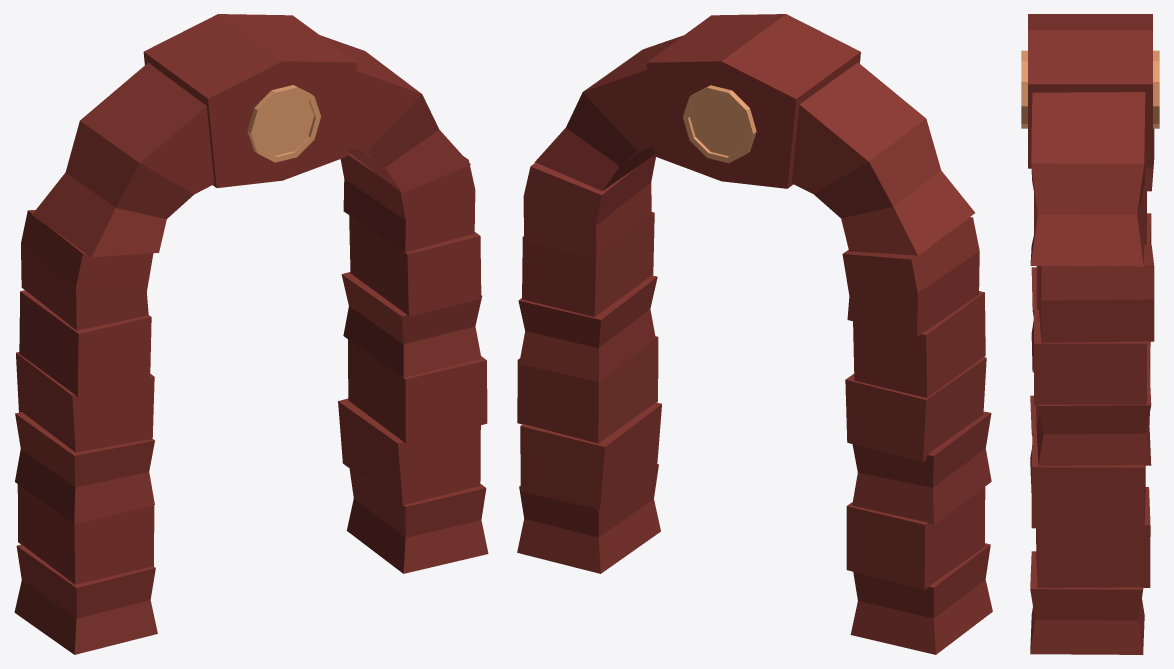
Rendered from Archway_4_Red.fbx.
The picture shows the model from 3 angles, left to right: view 1: azimuth 30°, elevation 25°; view 2: azimuth 150°, elevation 25°; view 3: azimuth 270°, elevation 25°; orthographic projection. The views are drawn at different scales.
Parts seen in each view (by area): view 1: Archway_4_Red_Part_1, Archway_4_Red_Part_2; view 2: Archway_4_Red_Part_1, Archway_4_Red_Part_2; view 3: Archway_4_Red_Part_1, Archway_4_Red_Part_2.
Boxes of the visible parts, box(x1,y1,x2,y2) form: Archway_4_Red_Part_1: box(14, 14, 488, 654); Archway_4_Red_Part_2: box(247, 85, 320, 162); Archway_4_Red_Part_1: box(517, 14, 992, 654); Archway_4_Red_Part_2: box(683, 85, 756, 163); Archway_4_Red_Part_1: box(1028, 14, 1154, 654); Archway_4_Red_Part_2: box(1021, 50, 1159, 128).
Size of the model in its own units: 570 by 710 by 169.
